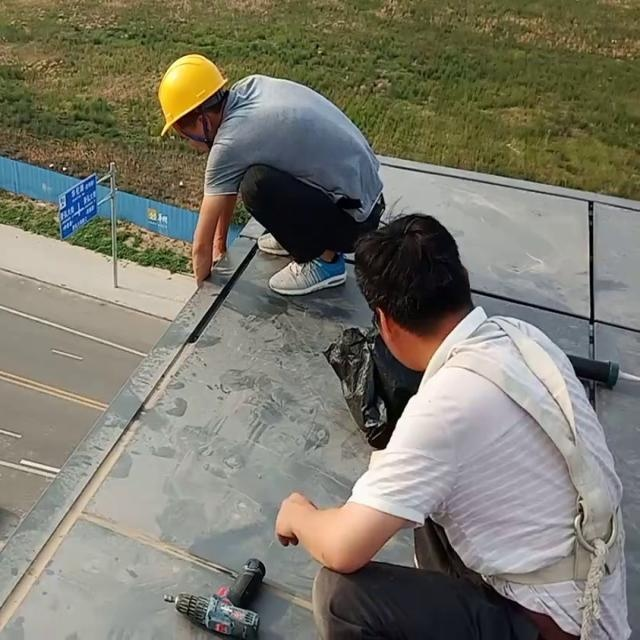Arnes_seguridad: (415, 314, 629, 611)
